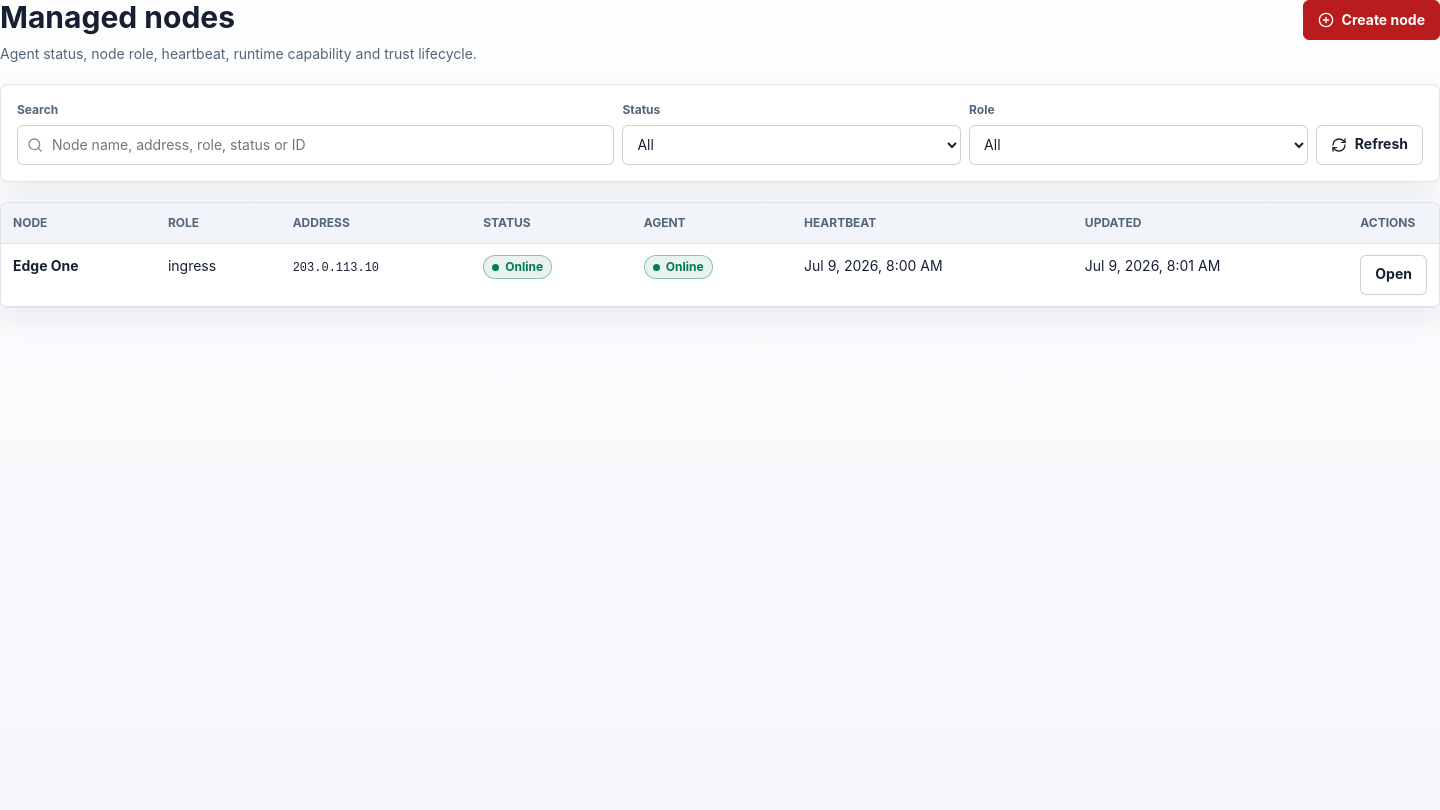
NodesPage › edits safe node metadata without mutating runtime, lifecycle or secret fields
Expected: the text "Edge One" is shown, [13,256,79,274]
Click the button "Open" at coordinates (1394, 274), box [1360,254,1427,294]
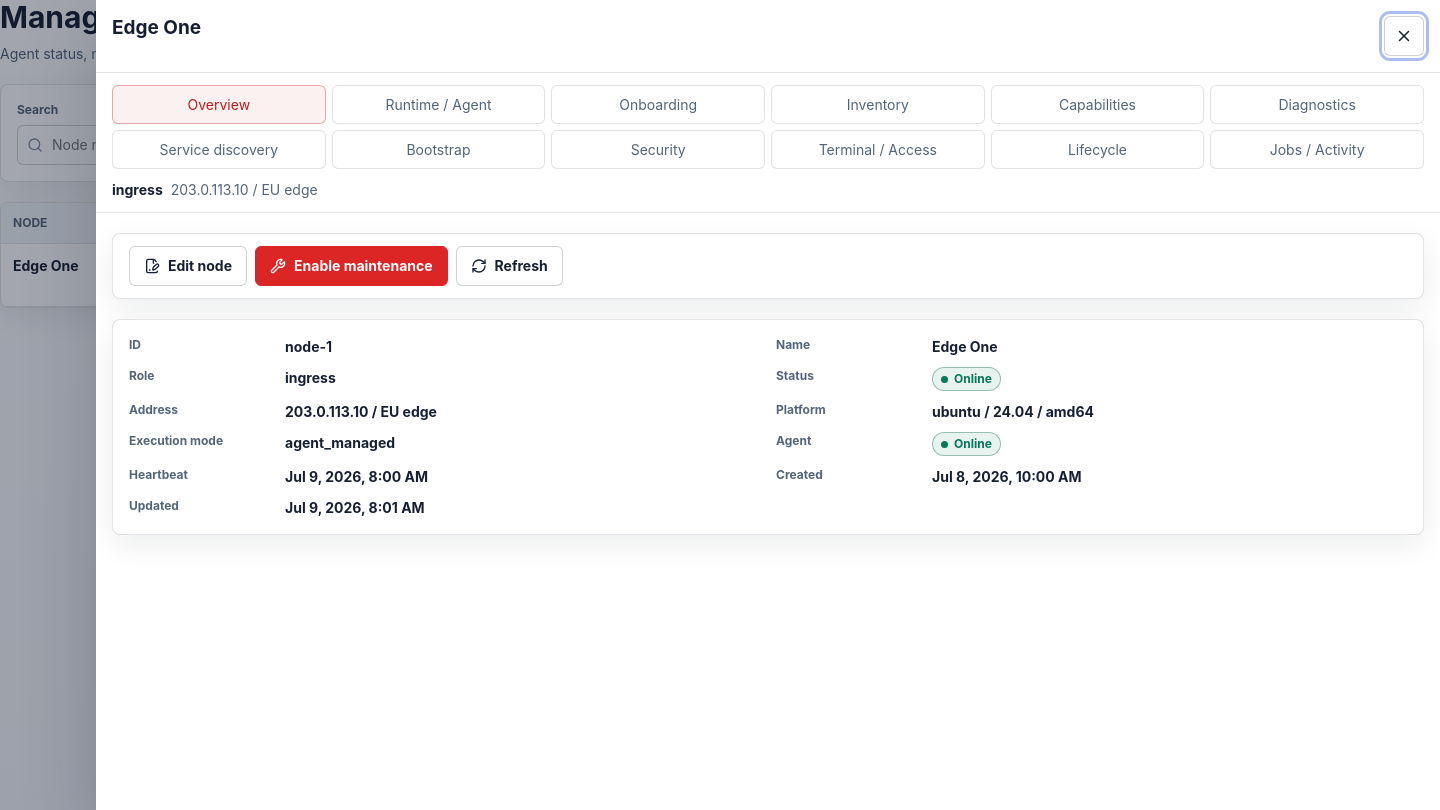
Result: the heading "Edge One" is shown at [112,16,201,40]
Click the button "Edit node" at coordinates (188, 266), box [129,246,247,286]
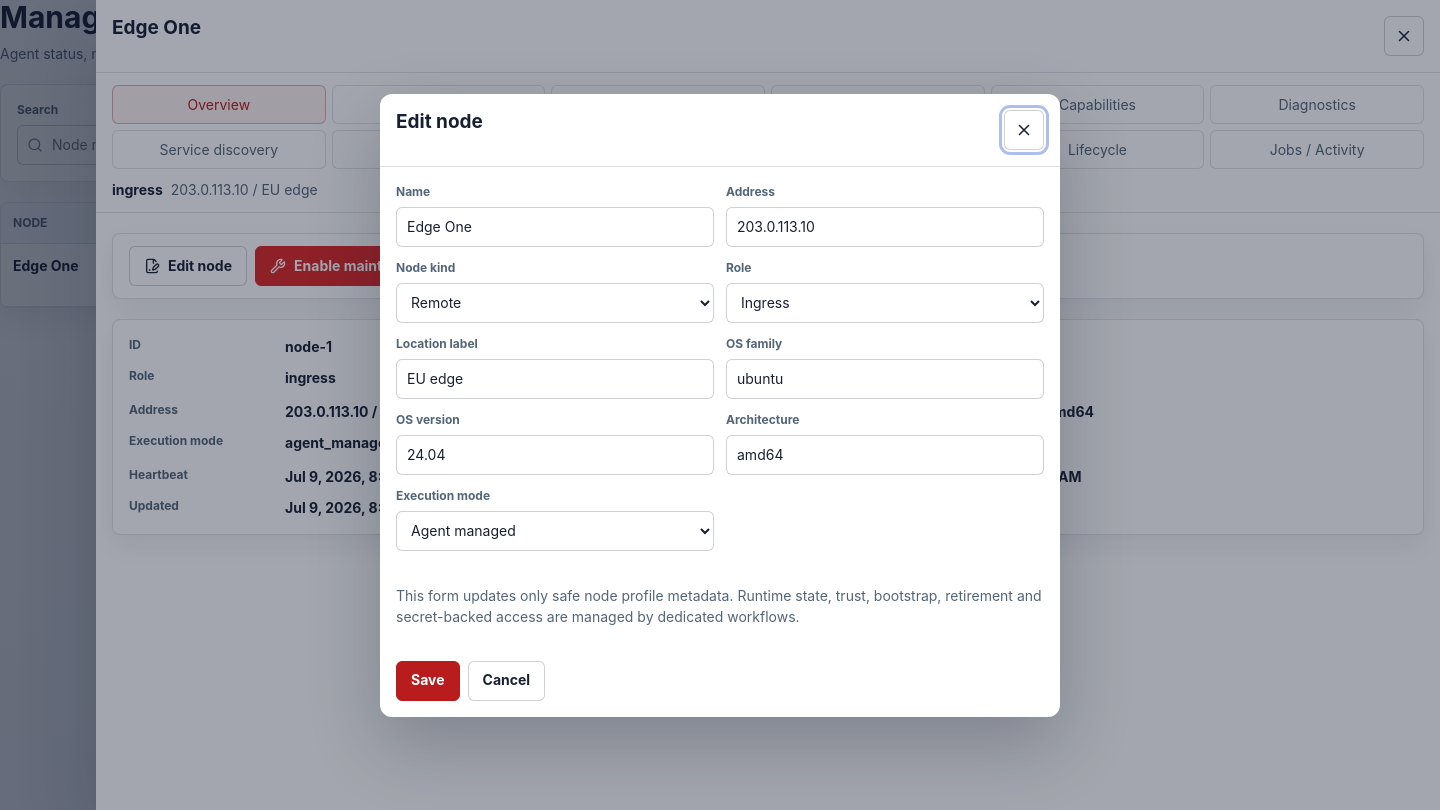
Result: the field labelled "Name" holds "Edge One"
Result: the field labelled "Address" holds "203.0.113.10" at [726,206,1044,246]
Replace the text in the field labelled "Name" with "Edge One Renamed" at coordinates (555, 226), box [396,206,714,246]
Replace the text in the field labelled "Address" with "203.0.113.11" at coordinates (885, 226), box [726,206,1044,246]
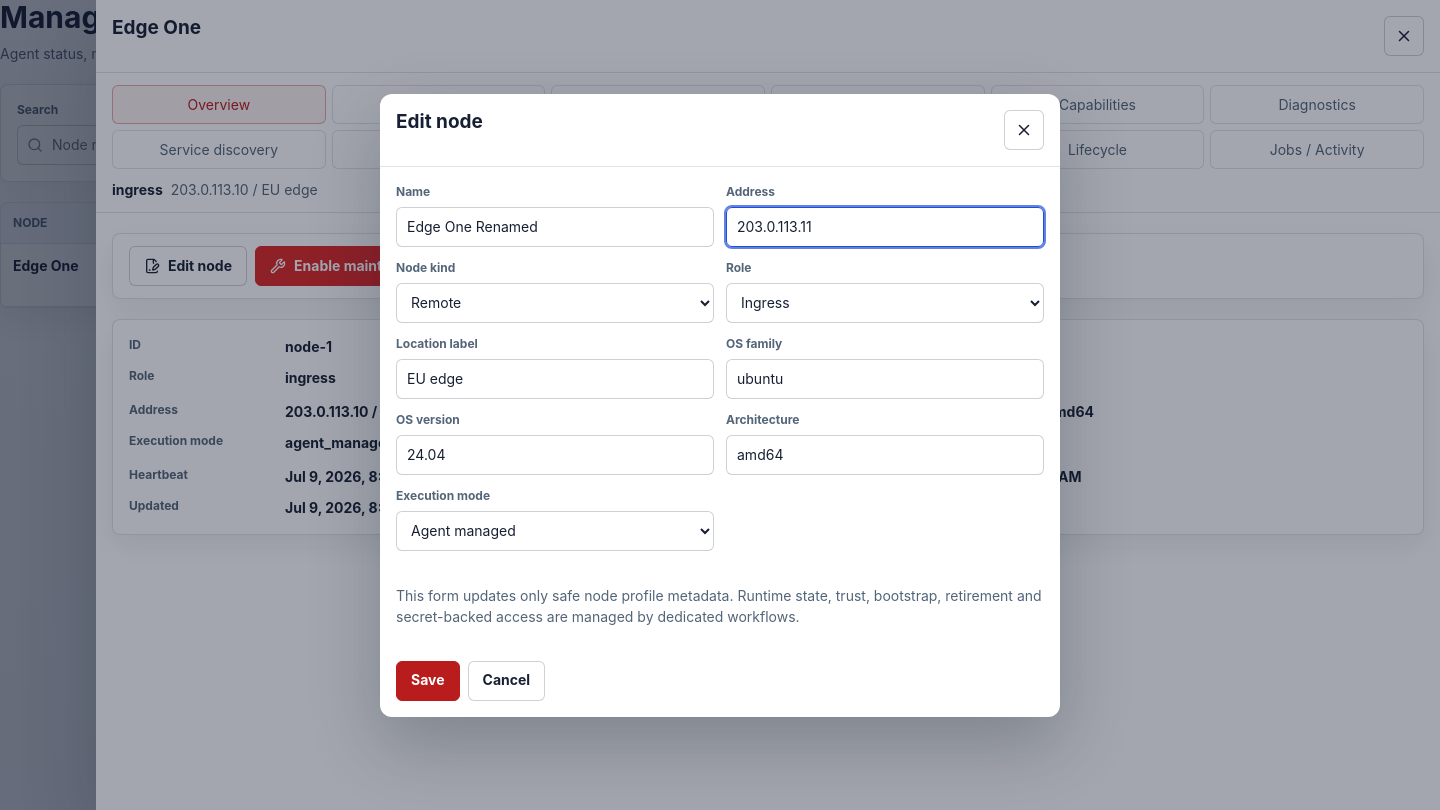
Select "Egress" in the dropdown labelled "Role" at coordinates (885, 302), box [726,282,1044,322]
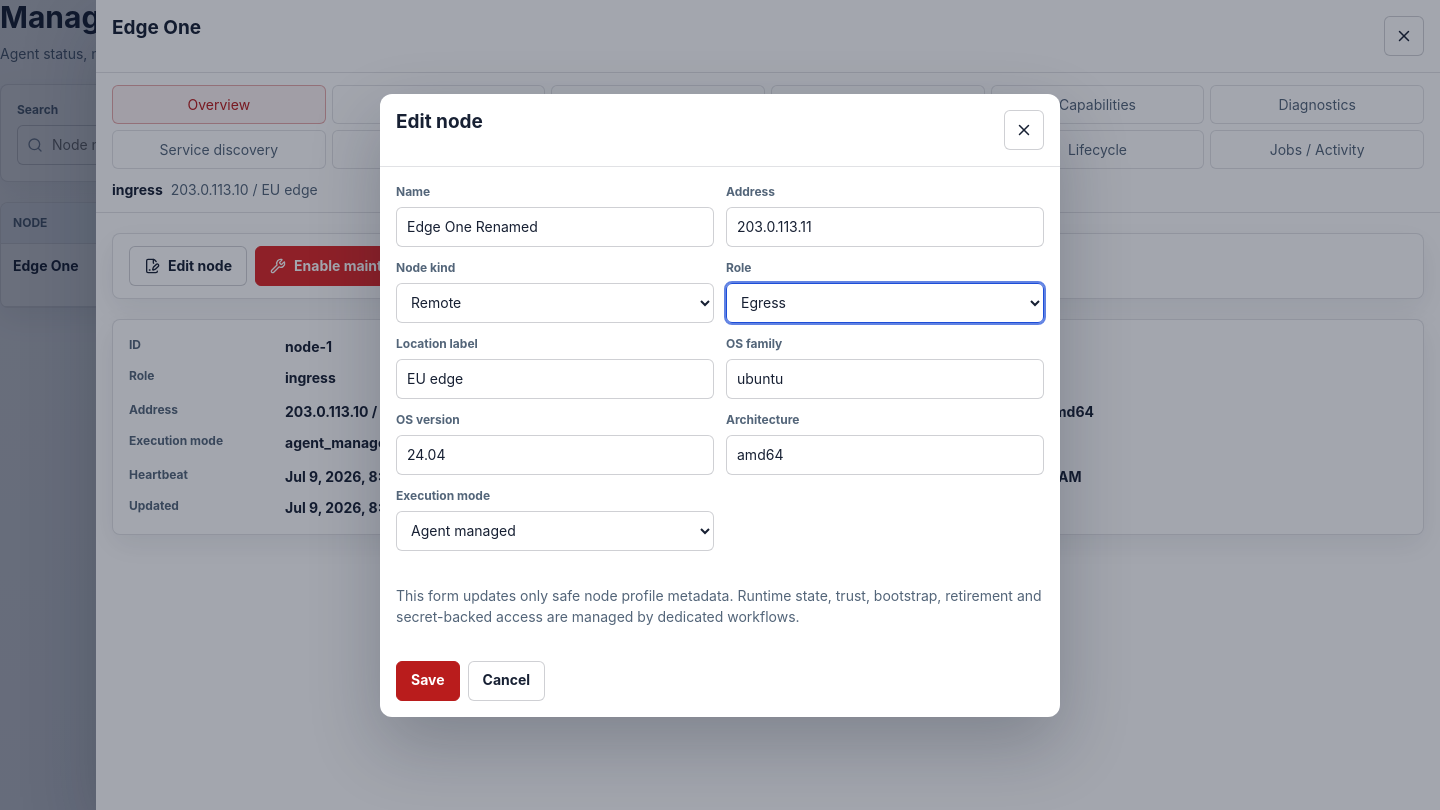
Select "SSH bootstrap" in the dropdown labelled "Execution mode" at coordinates (555, 530), box [396,510,714,550]
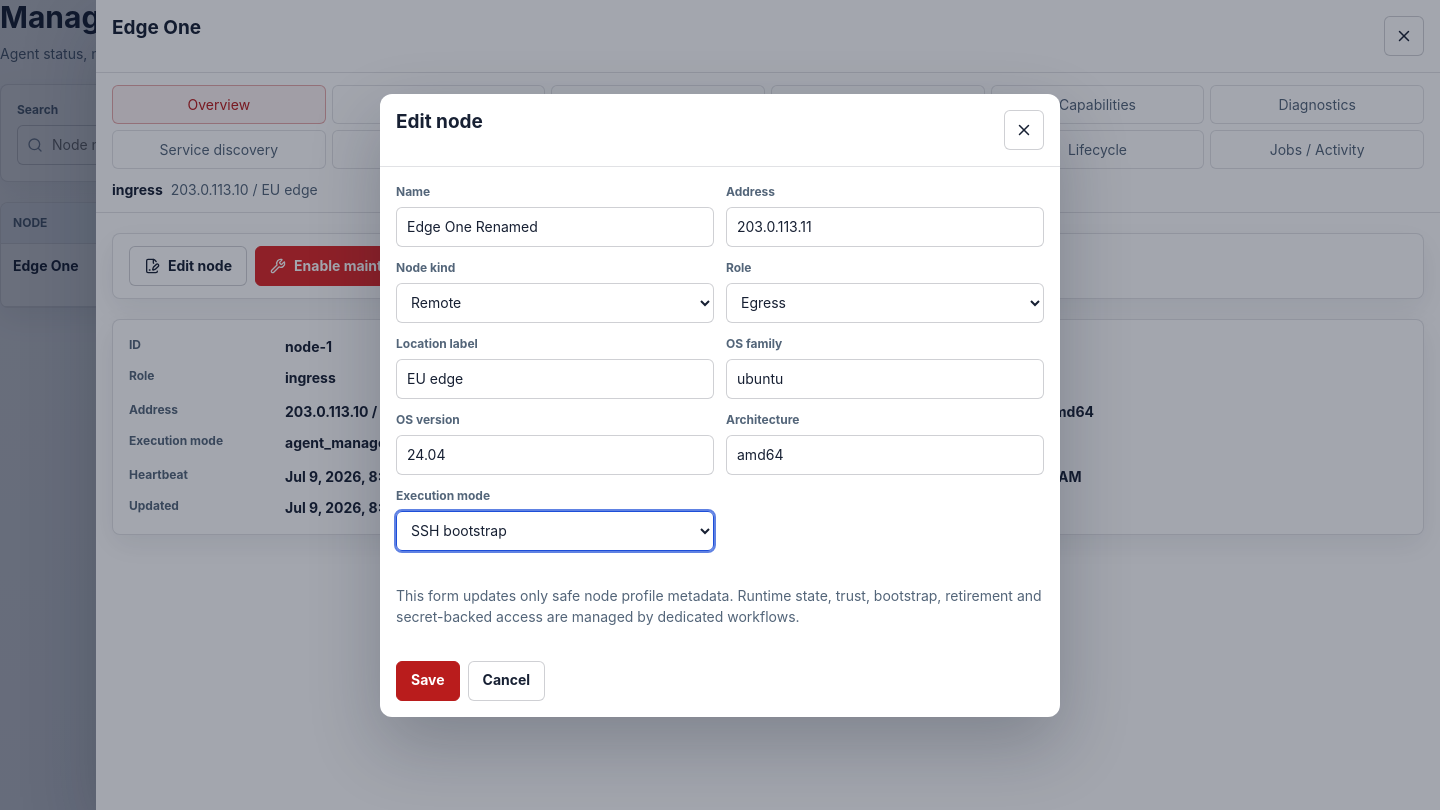
Click the button "Save" at coordinates (428, 680), box [396,660,460,700]
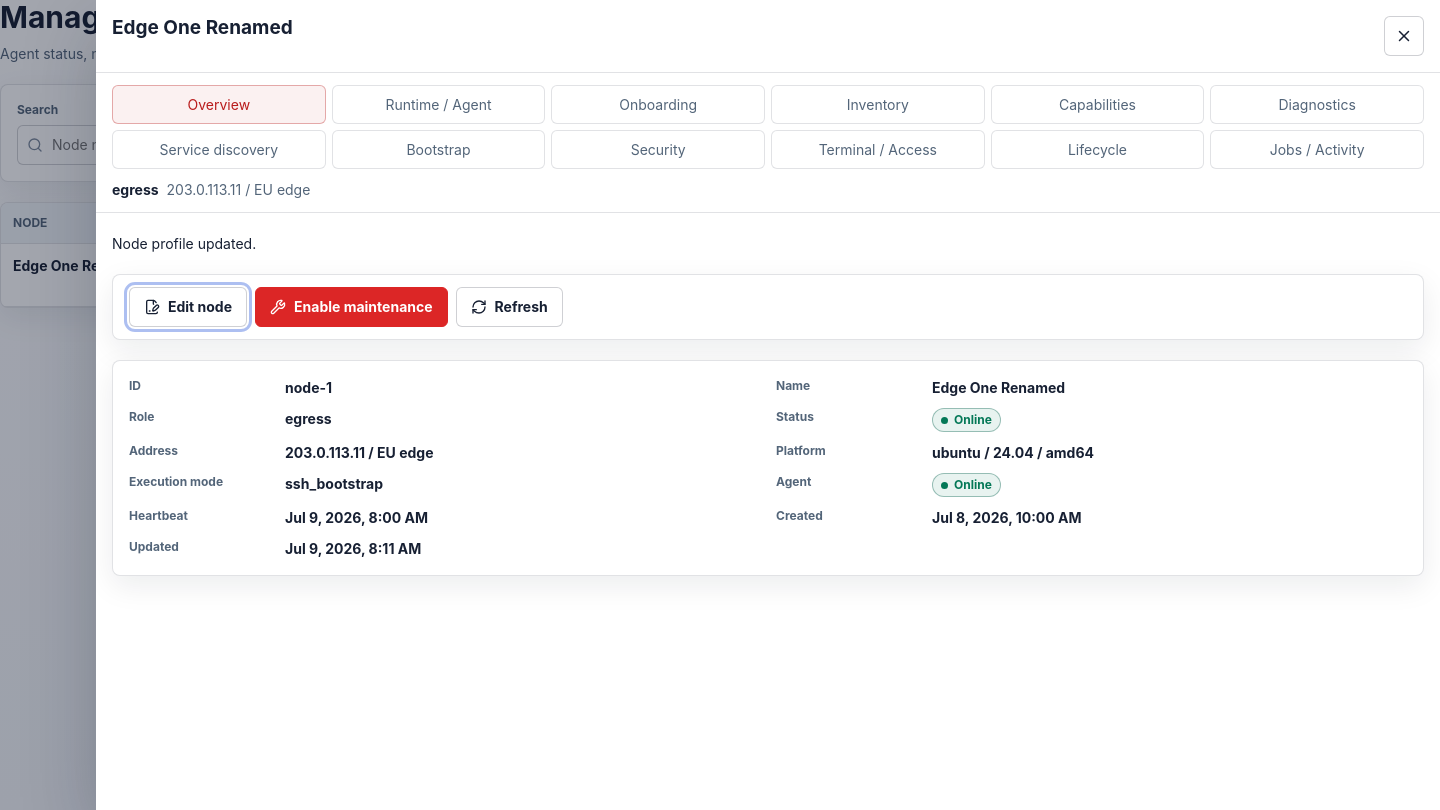
Result: the text "Node profile updated." is shown at [112,235,256,252]
